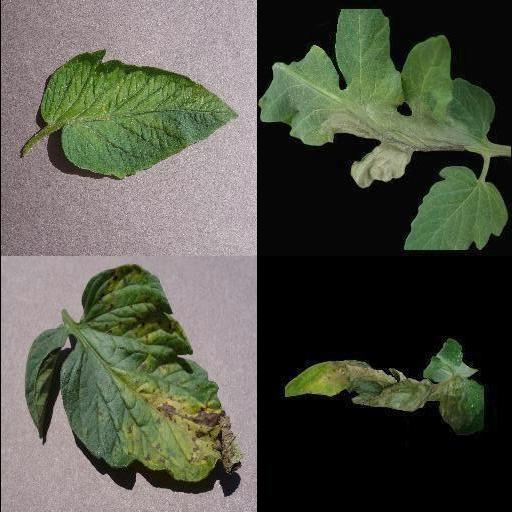Healthy: (402, 164, 506, 250)
Late Blight: (256, 10, 494, 188), (283, 339, 485, 431)
Septoria: (59, 264, 243, 480)
Spider Mites: (39, 51, 237, 179)
